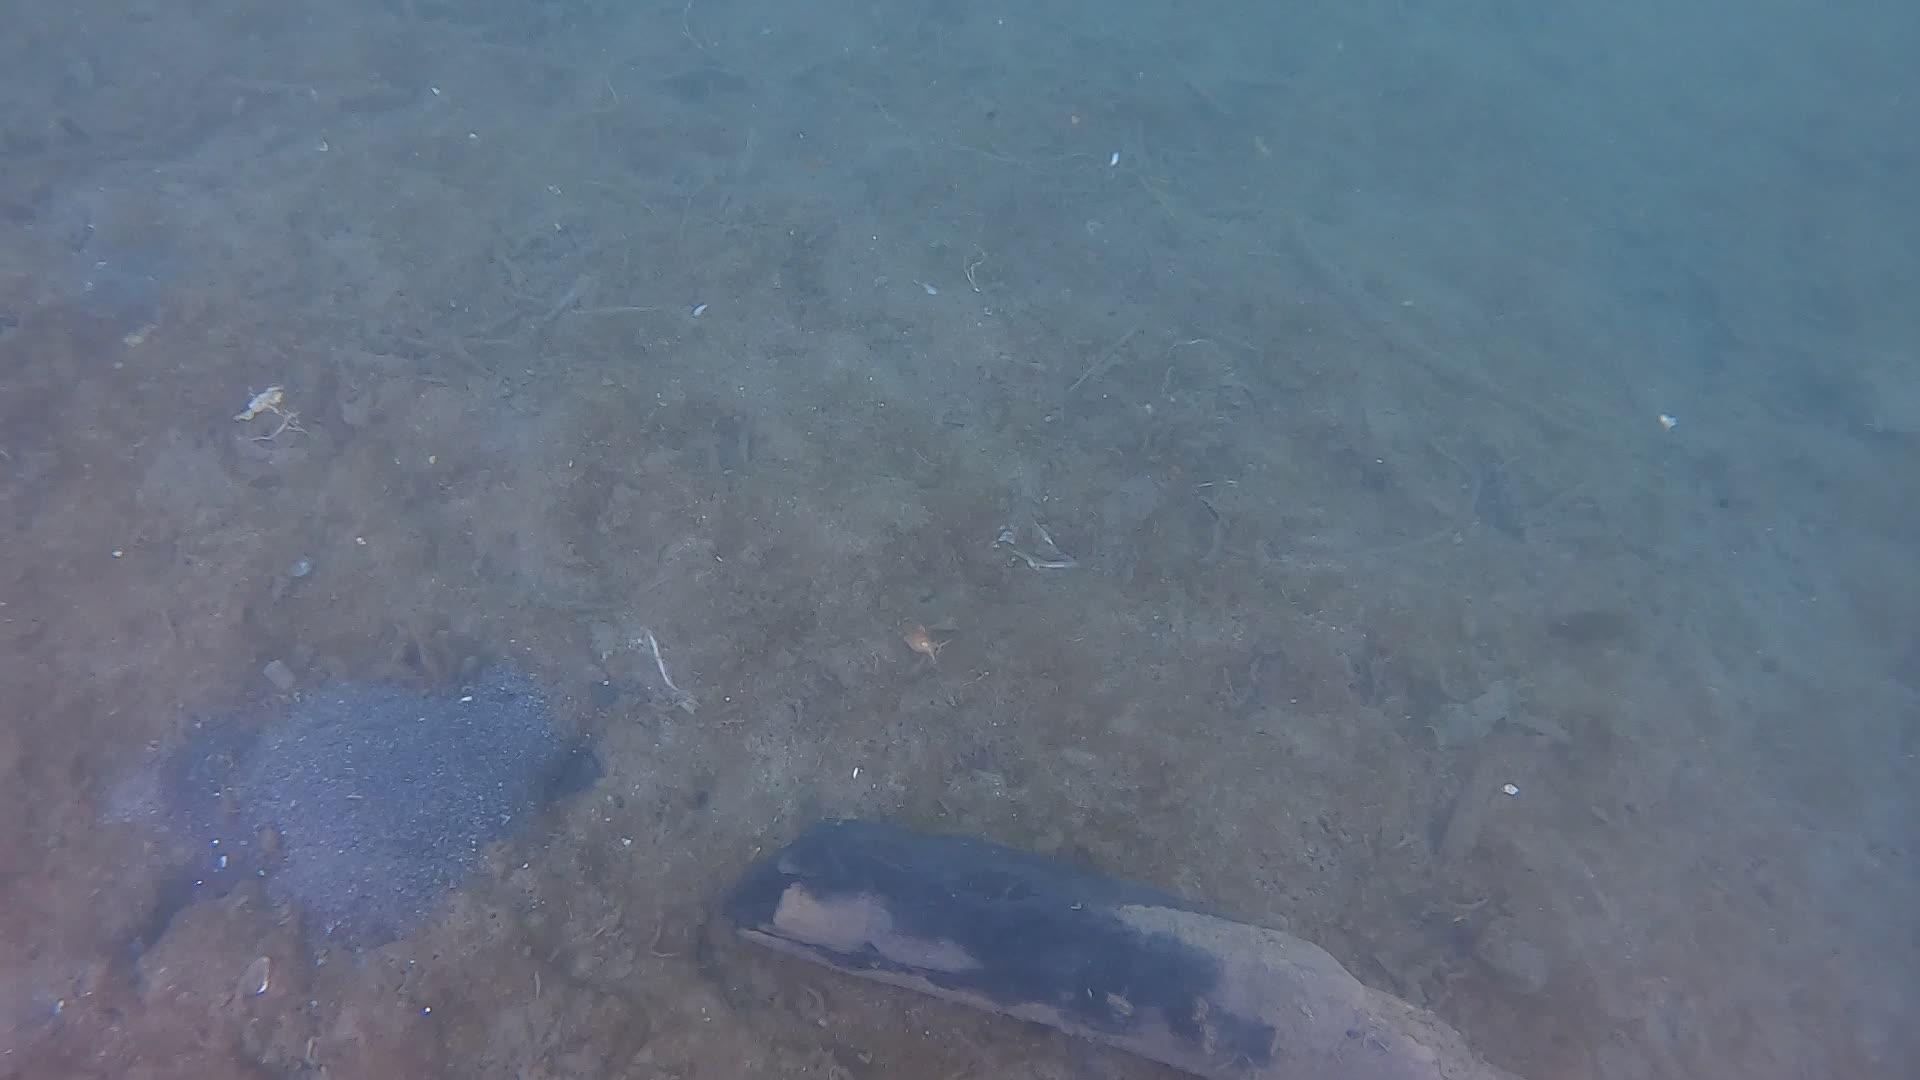wood: (715, 814, 1522, 1080)
